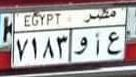1: (31, 36, 39, 61)
3: (56, 34, 69, 58)
7: (15, 37, 28, 61)
8: (42, 36, 55, 61)
ain: (105, 30, 122, 57)
alif: (93, 32, 103, 58)
waw: (73, 36, 89, 57)
